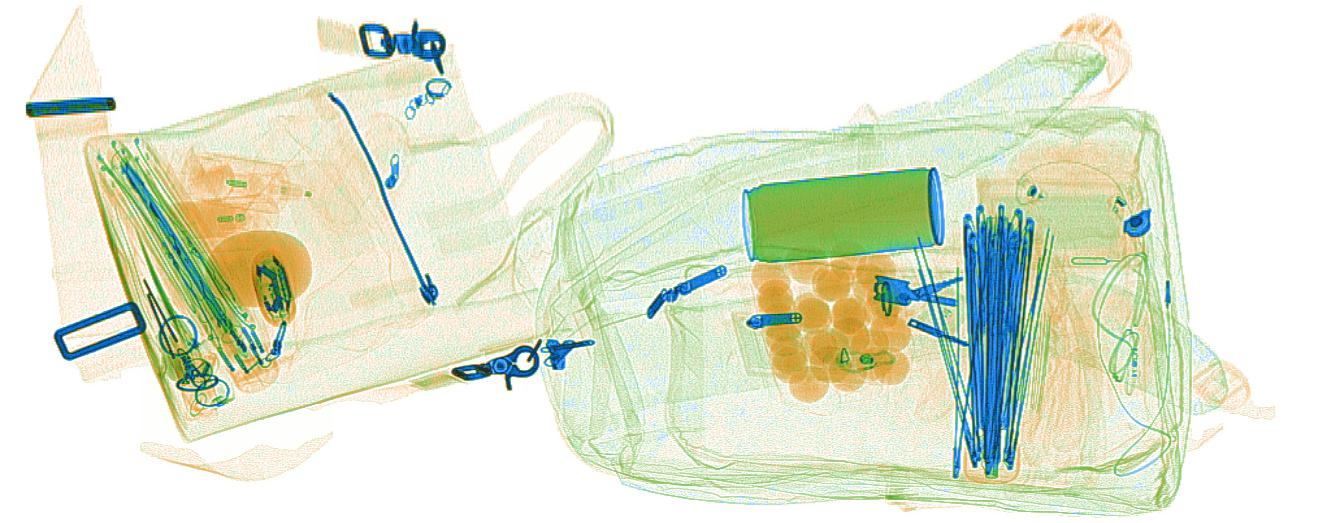plasticBottleWithaNozzle: (178, 146, 311, 212), (159, 191, 278, 242)
